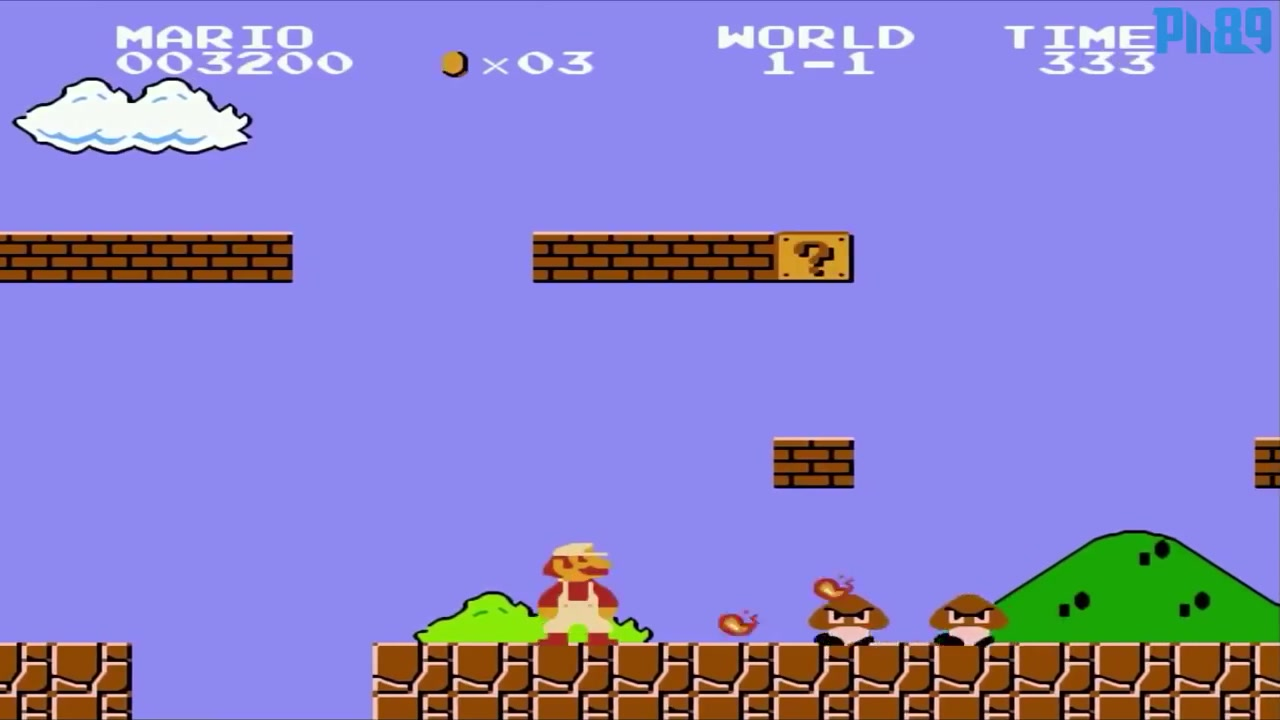mario: (529, 538, 616, 650)
